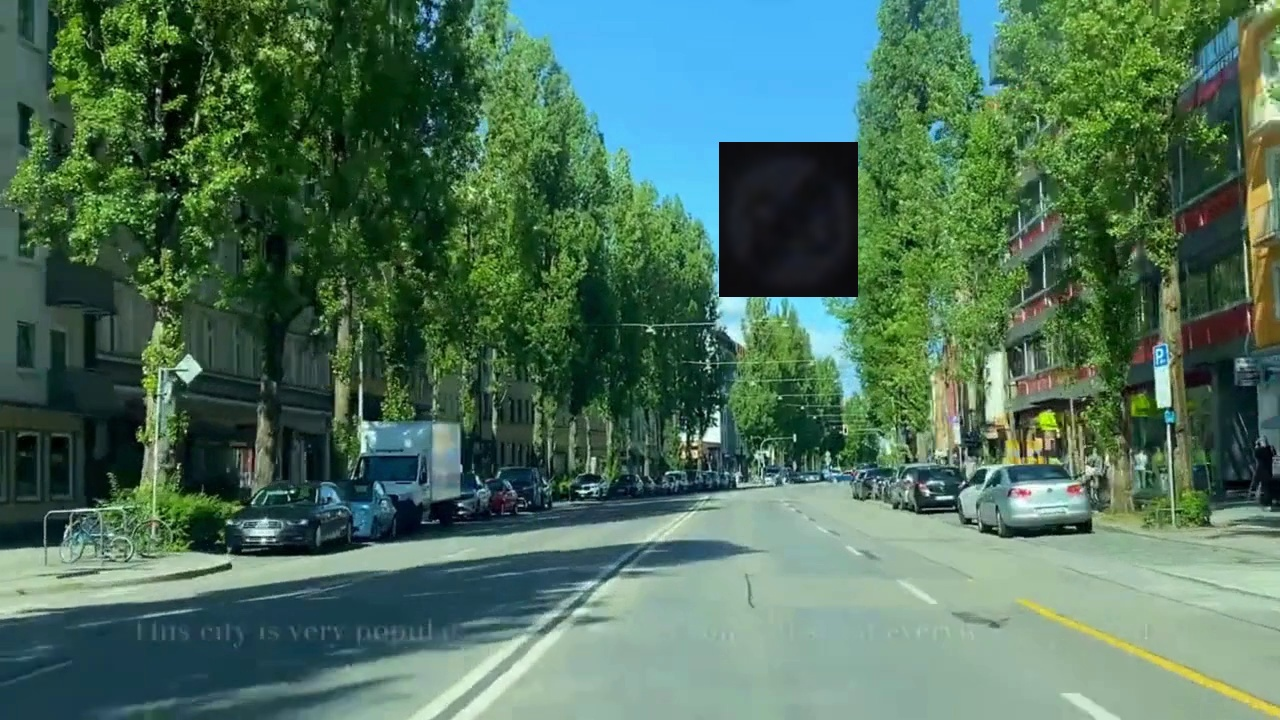End Speed 80: (719, 142, 858, 297)
